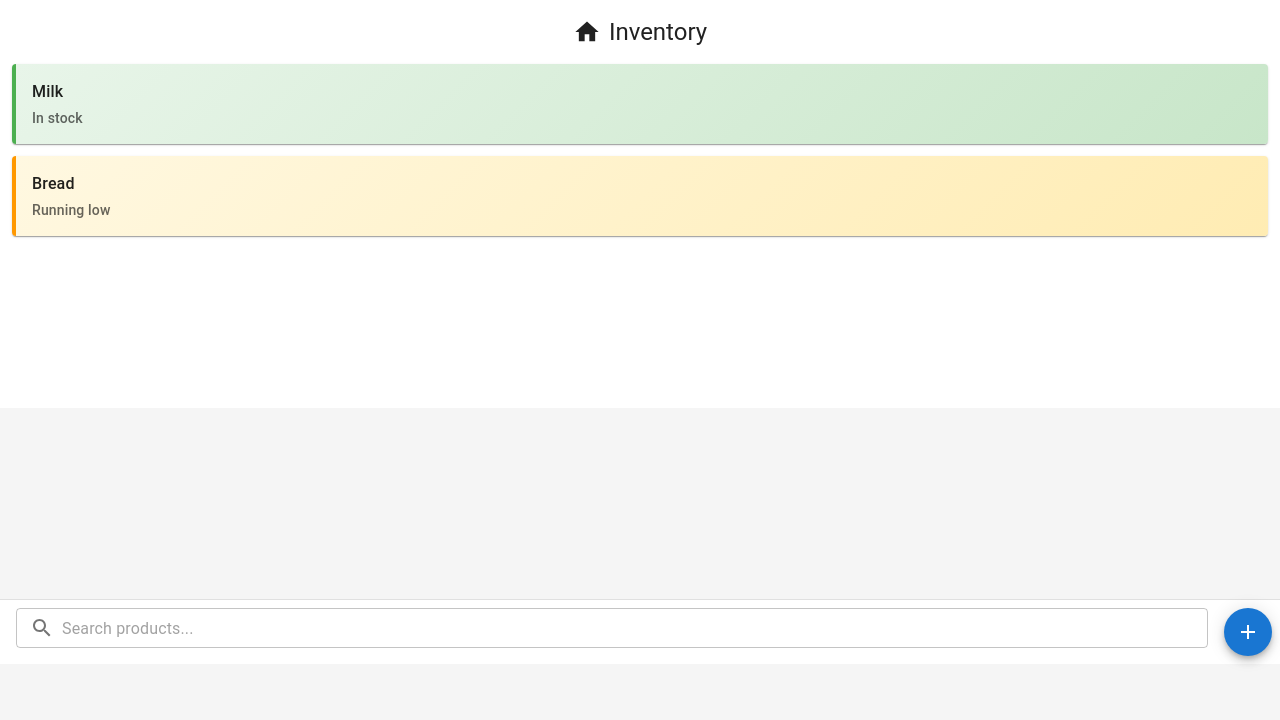
Test: InventoryList › Search functionality › should clear search and show all products
Expected: the heading "Milk" is shown, [32,82,63,101]
Expected: the heading "Bread" is shown, [32,174,75,193]
// Search for "milk"
Step 1. Type "milk" into the field with placeholder "Search products..." → (635, 628), box [62,608,1208,648]
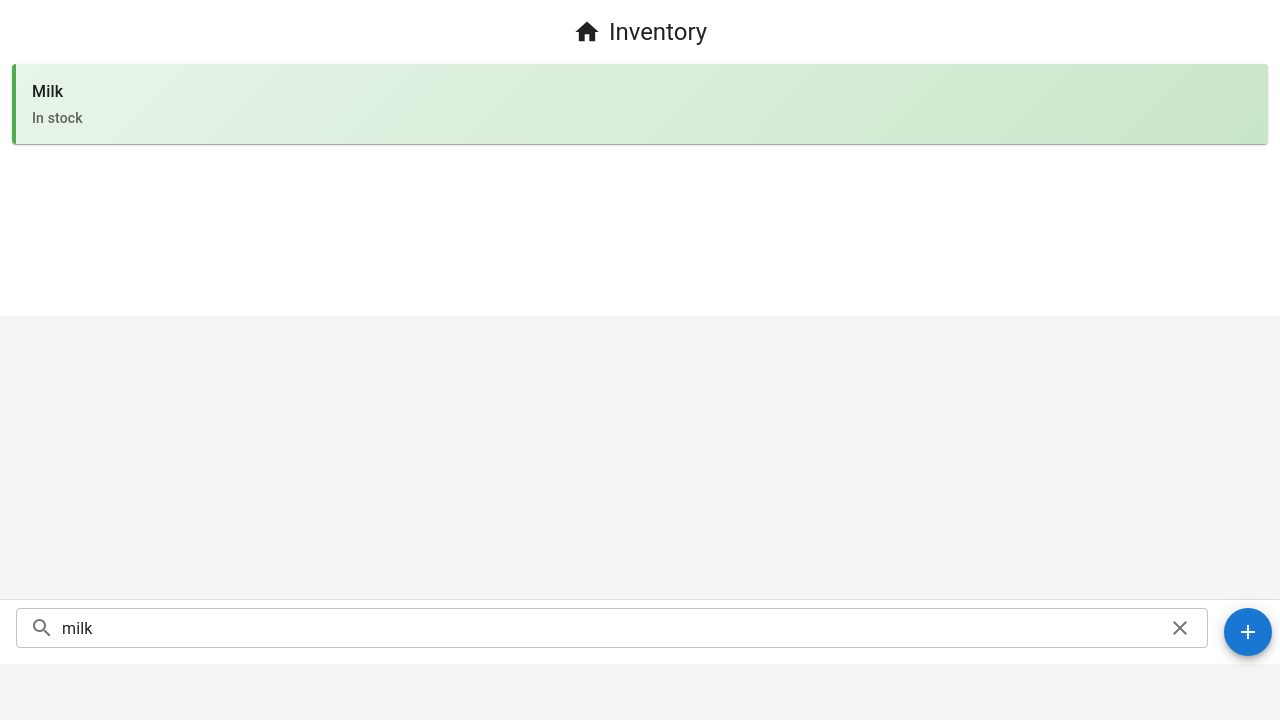
Expected: the heading "Milk" is shown, [32,82,63,101]
Result: the heading "Bread" is gone
// Clear search
Step 2. Click the button named "Clear search" → (1180, 628), box [1163,611,1197,645]
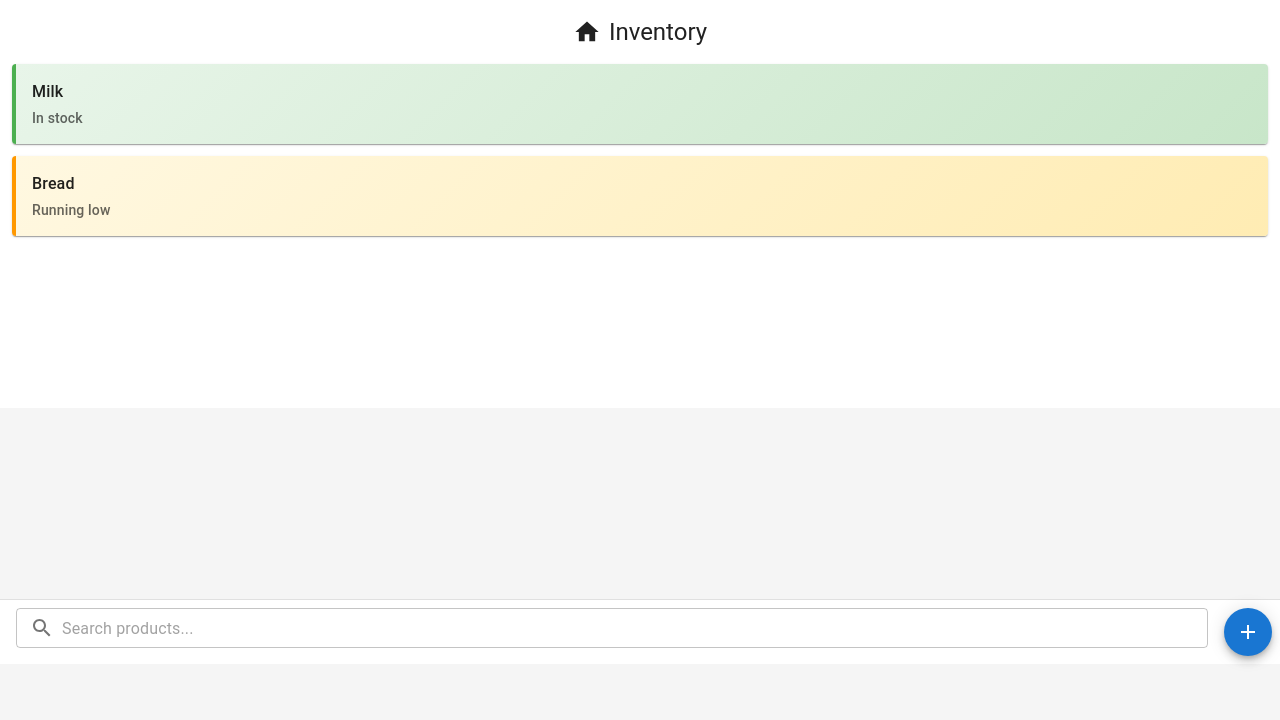
Expected: the heading "Milk" is shown, [32,82,63,101]
Result: the heading "Bread" is shown at [32,174,75,193]
